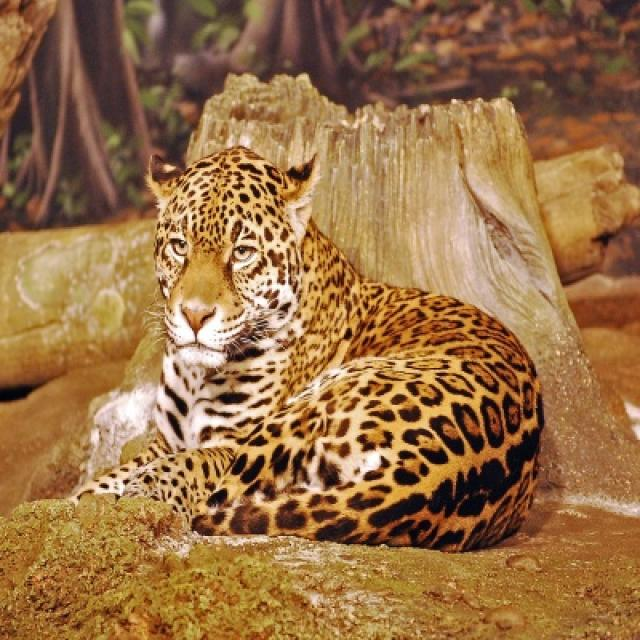Jaguar: (86, 147, 542, 555)
